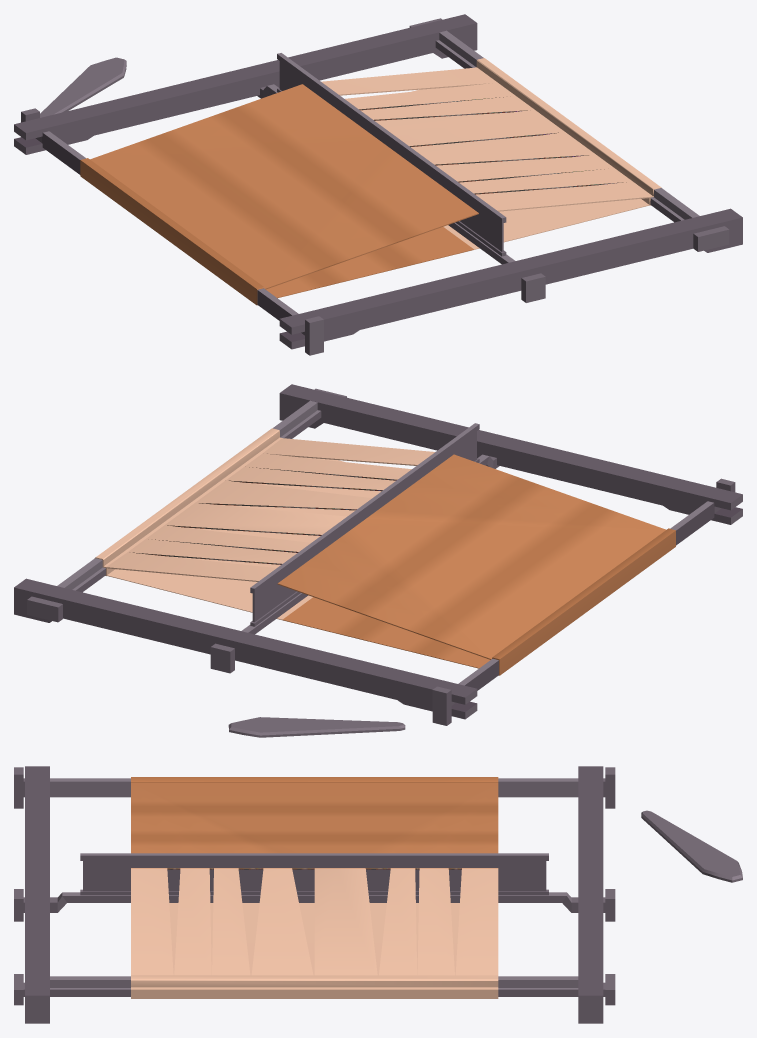
File: Loom.fbx
The picture shows the model from 3 angles, top to bottom: view 1: azimuth 30°, elevation 25°; view 2: azimuth 150°, elevation 25°; view 3: azimuth 270°, elevation 25°; orthographic projection. The views are drawn at different scales.
Parts seen in each view (by area): view 1: Loom, needel; view 2: Loom, needel; view 3: Loom, needel.
Part boxes in pixels (<box>): Loom: <box>14,14,742,355</box>; needel: <box>40,57,126,117</box>; Loom: <box>14,384,742,725</box>; needel: <box>228,717,405,737</box>; Loom: <box>14,766,615,1023</box>; needel: <box>641,810,742,882</box>.
Size of the model in its own units: 0.3662 by 0.0462 by 0.4918.
1 material, 1 textured.
